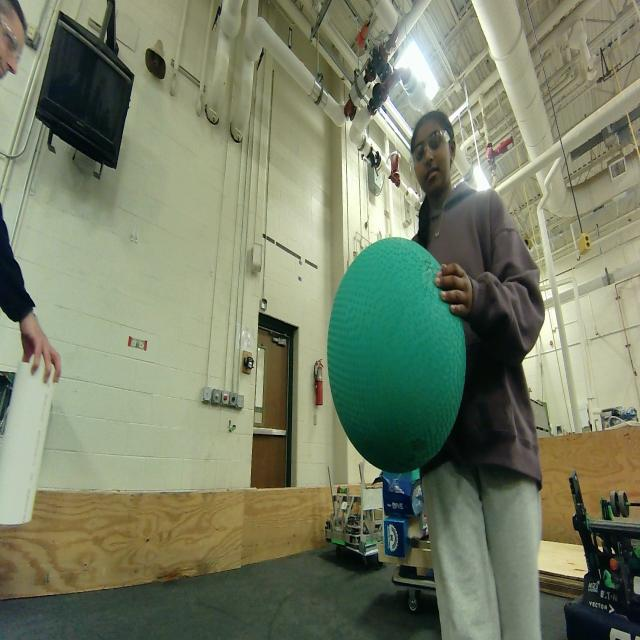algae: (328, 237, 466, 473)
coral: (0, 355, 52, 527)
